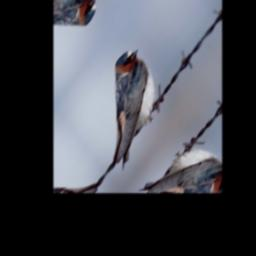Swallow: (73, 42, 177, 178)
